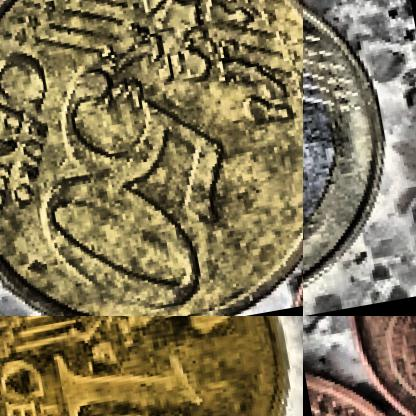coin: (0, 0, 302, 315), (303, 0, 408, 315), (0, 316, 302, 415), (323, 316, 415, 415)
